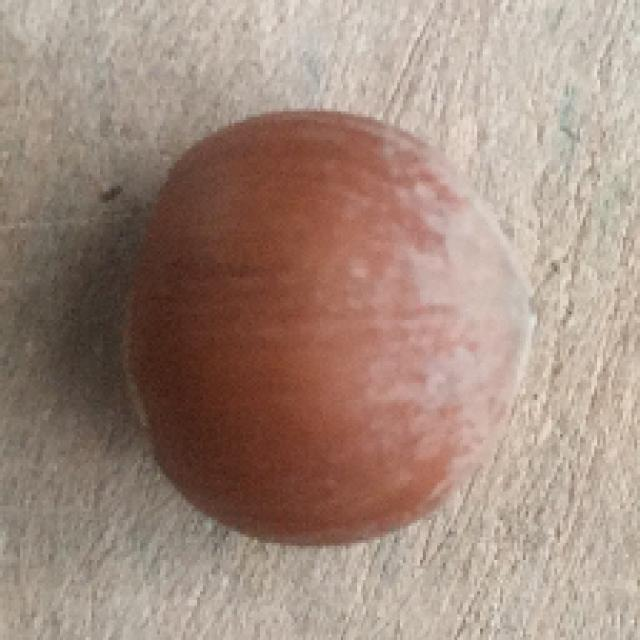QualityHazelnut: (126, 108, 542, 545)
